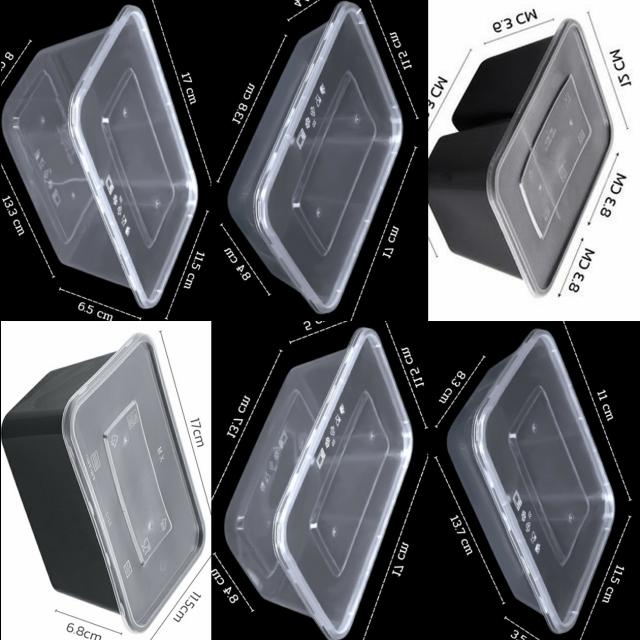plastik: (1, 333, 204, 633), (1, 5, 197, 309), (224, 329, 412, 640), (227, 1, 401, 314), (446, 329, 614, 633), (429, 20, 610, 296)
